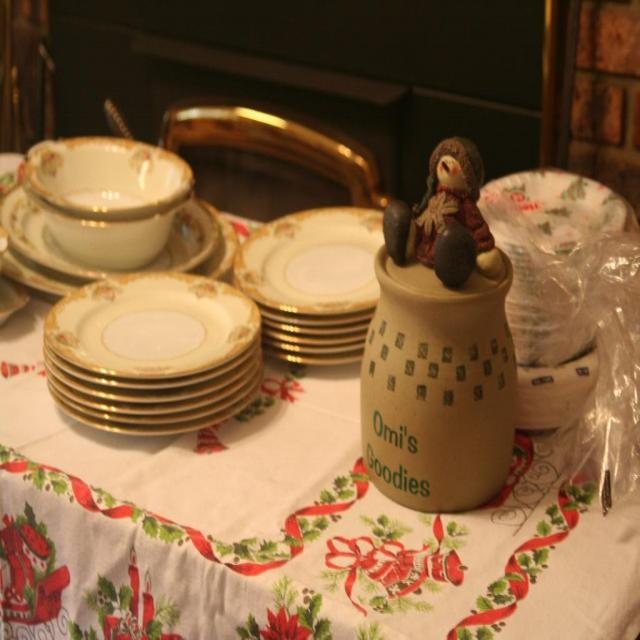non-organic waste: (36, 264, 276, 454)
